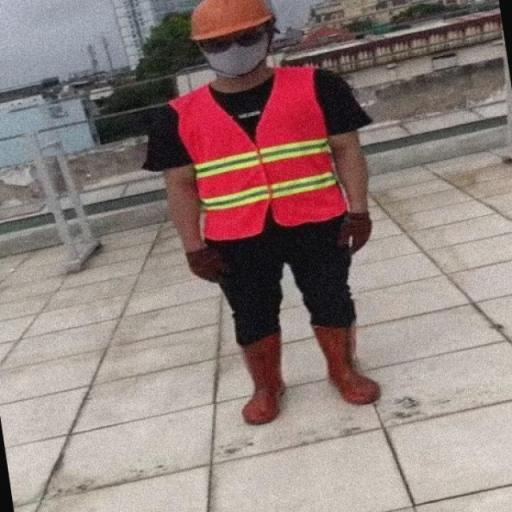Person: (167, 0, 399, 489)
boots: (206, 330, 292, 434), (312, 324, 384, 408)
gloves: (332, 208, 377, 256), (185, 240, 233, 282)
goggles: (189, 30, 275, 54)
helmet: (185, 0, 277, 42)
vest: (161, 58, 349, 242)
